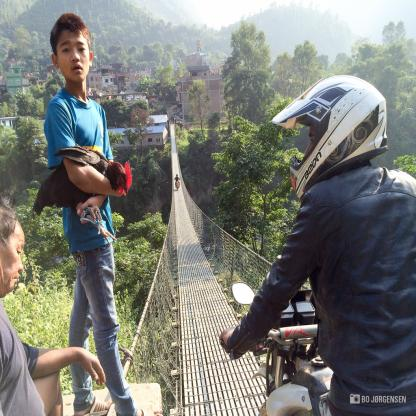Helmet: (268, 79, 384, 184), (175, 172, 179, 178)
